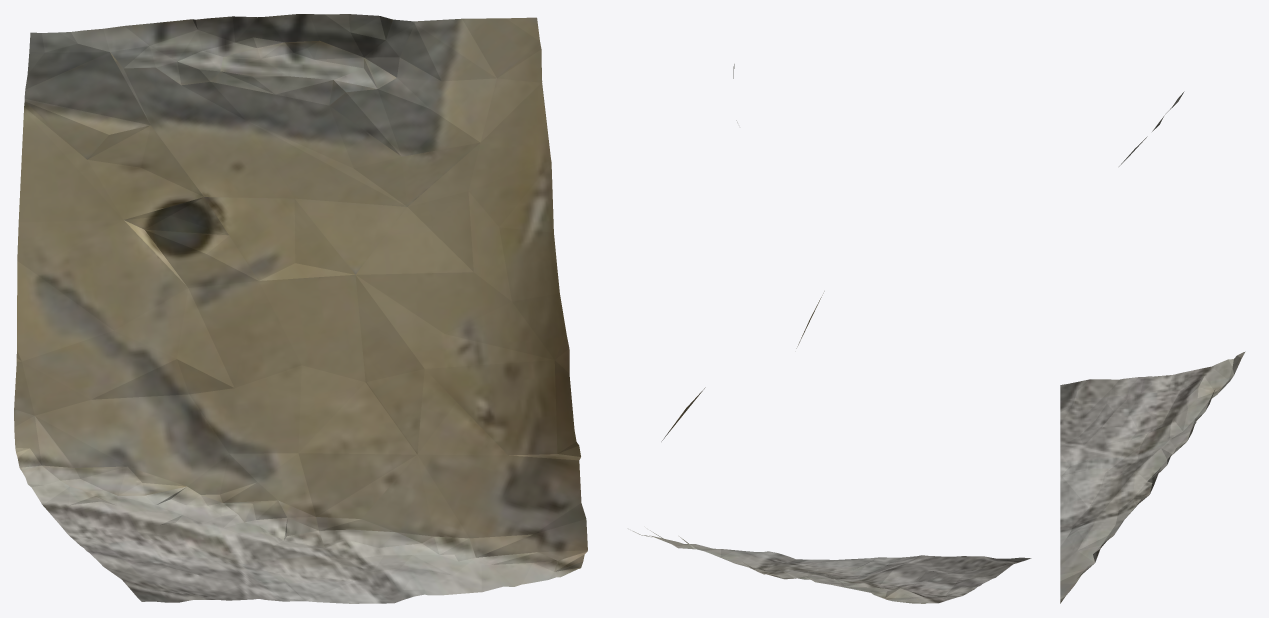
3 views of the same model, side by side, from view 1: azimuth 30°, elevation 25°; view 2: azimuth 150°, elevation 25°; view 3: azimuth 270°, elevation 25° (orthographic). The views are drawn at different scales.
Bounding box in the file's own units: 1.2 × 1.45 × 0.5936.
Materials: 2 (2 with a texture image).
